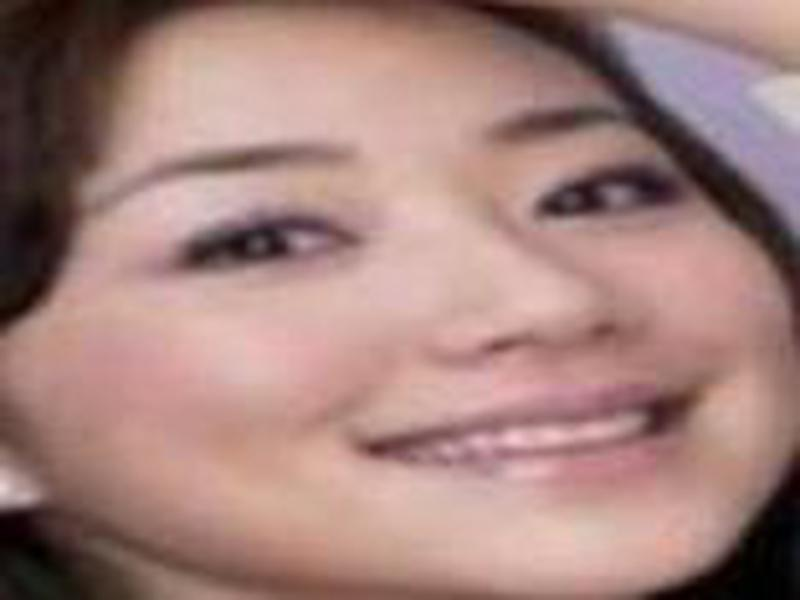without_mask: (16, 18, 791, 591)
